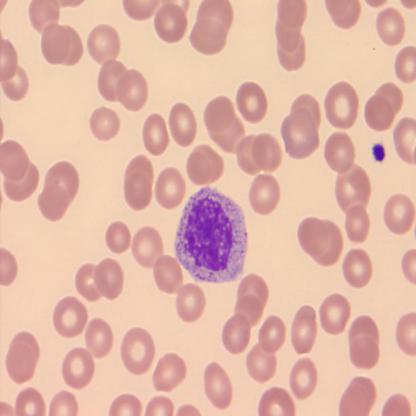Myelocyte: (178, 184, 249, 280)
